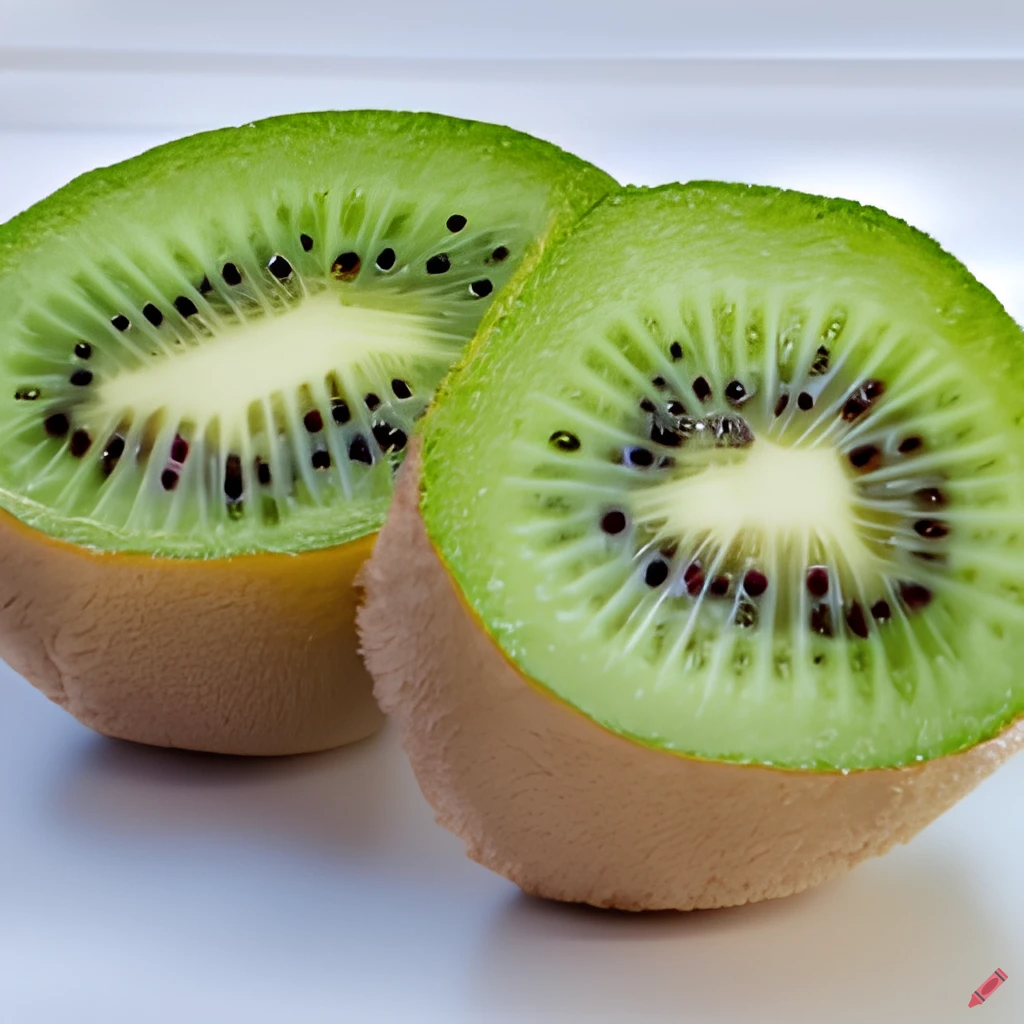Kiwi: (351, 174, 1024, 929), (0, 82, 634, 754)
